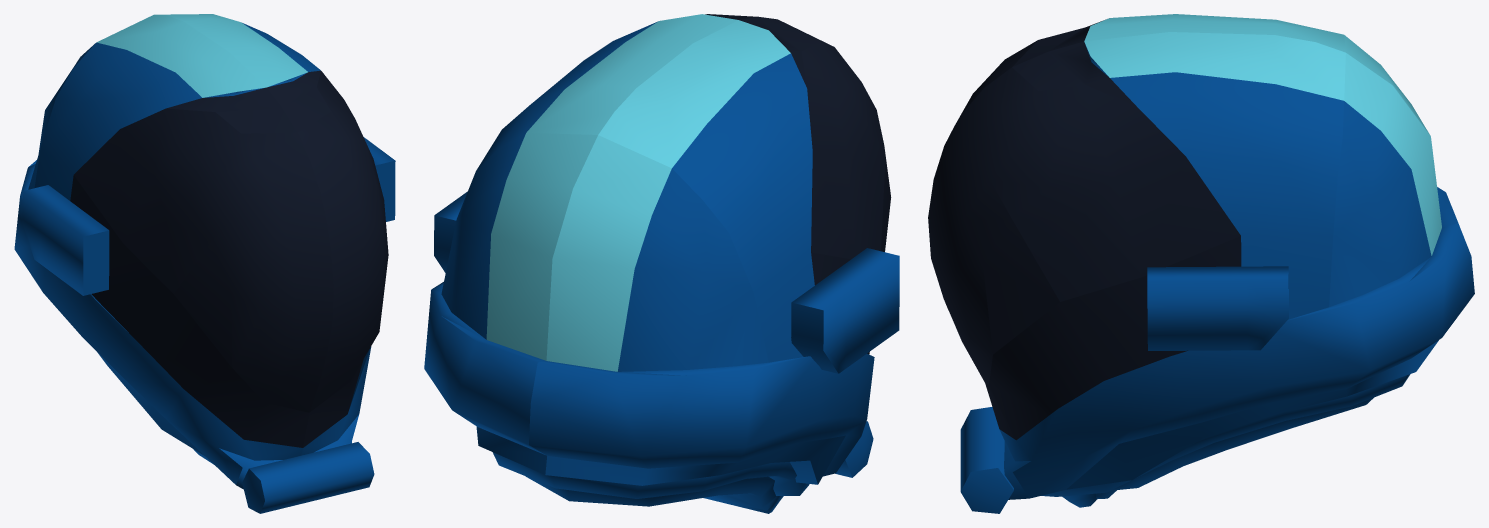
The model's file is BlueHead.fbx.
3 views of the same model, side by side, from view 1: azimuth 30°, elevation 25°; view 2: azimuth 150°, elevation 25°; view 3: azimuth 270°, elevation 25° (orthographic). The views are drawn at different scales.
Visible parts, largest first — view 1: Mesh_0002; view 2: Mesh_0002; view 3: Mesh_0002.
Boxes of the visible parts, x1,y1,x2,y2 form: Mesh_0002: [14, 14, 395, 513]; Mesh_0002: [424, 14, 899, 513]; Mesh_0002: [928, 14, 1474, 513].
Size of the model in its own units: 23.02 by 28.01 by 30.07.
